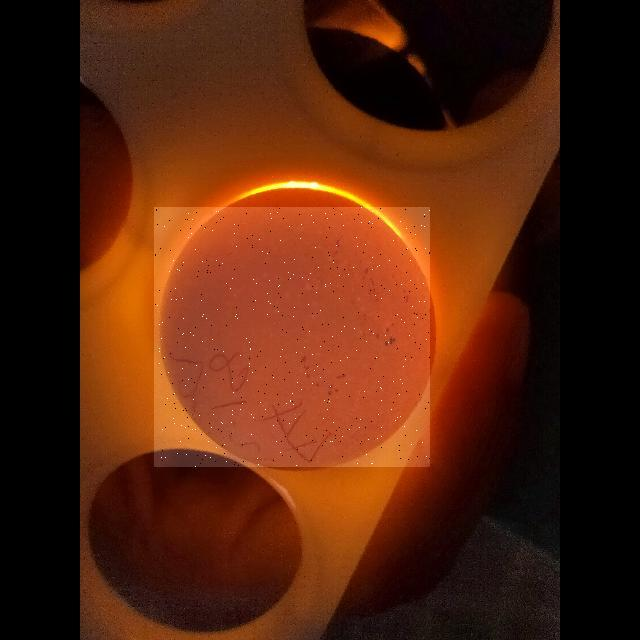Fertile: (154, 207, 430, 467)
